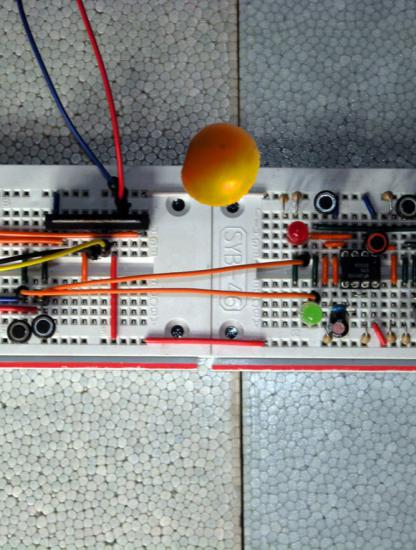Cherry: (178, 122, 266, 210)
